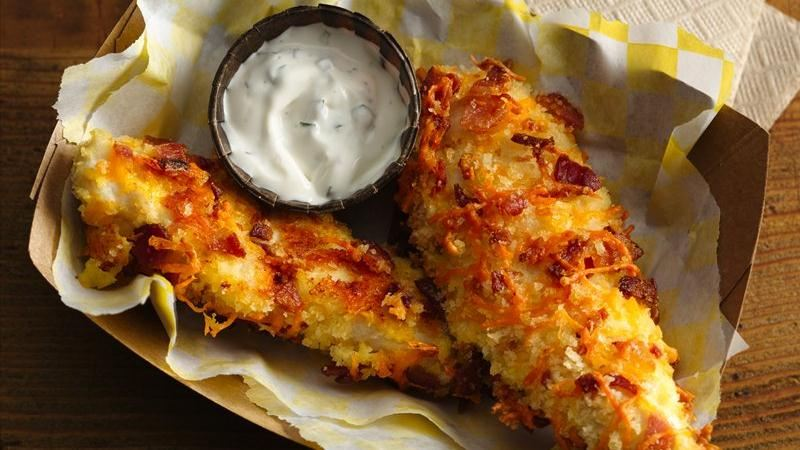bacon: (253, 217, 318, 319), (513, 132, 591, 207)
